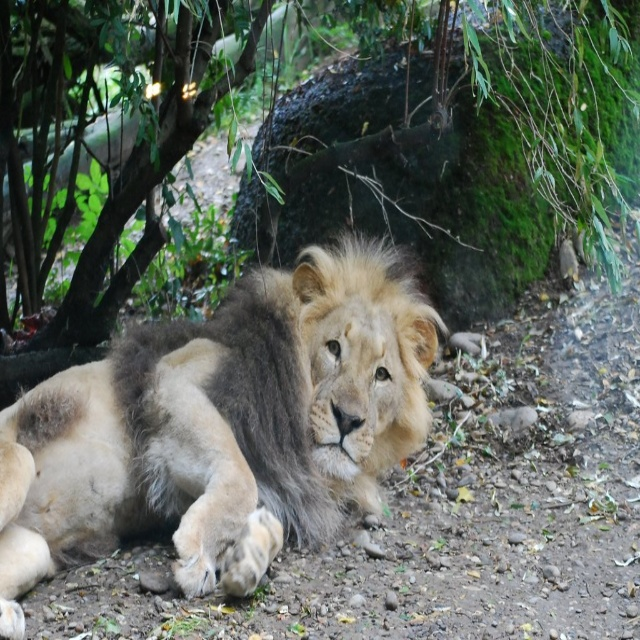Lion: (0, 218, 452, 639)
